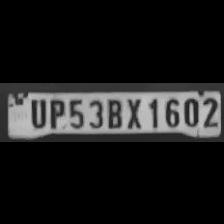0: (181, 94, 199, 125)
1: (144, 96, 162, 128)
2: (200, 93, 220, 126)
3: (85, 96, 103, 128)
5: (65, 96, 85, 128)
6: (160, 95, 180, 127)
B: (103, 96, 123, 128)
P: (46, 96, 64, 128)
U: (25, 96, 47, 128)
X: (123, 96, 145, 128)
